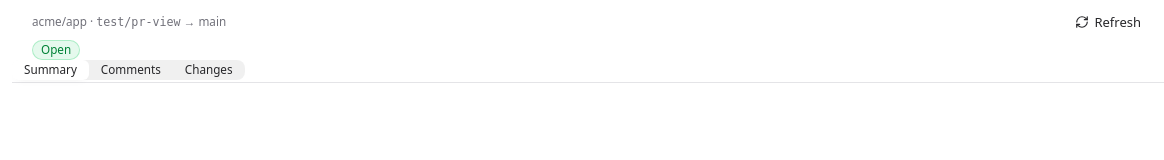
Scenario: PullRequestPanel › marks incomplete checks and comments without claiming they are empty
This screenshot has width=1164, height=160.
Press the mouse on the tab "Comments" at (131, 70), box [89,60,173,80]
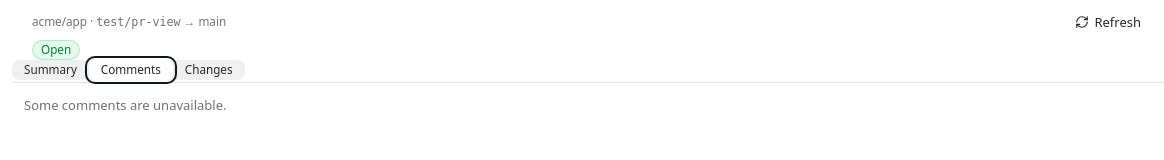
Now the text "Some comments are unavailable." is shown, box [24,96,226,114]
